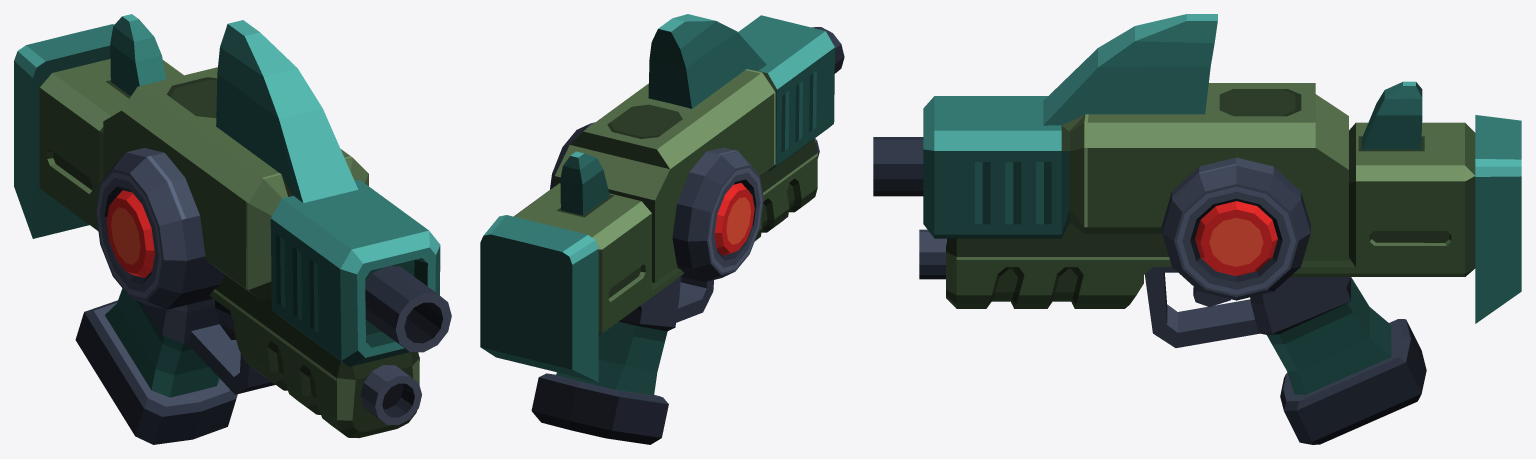
Rendered from Cosmic_Retro_Blaster_10.fbx.
The picture shows the model from 3 angles, left to right: view 1: azimuth 30°, elevation 25°; view 2: azimuth 150°, elevation 25°; view 3: azimuth 270°, elevation 25°; orthographic projection. The views are drawn at different scales.
Parts seen in each view (by area): view 1: Cosmic_Retro_Blaster_10, Cylinder.022; view 2: Cosmic_Retro_Blaster_10; view 3: Cosmic_Retro_Blaster_10.
Boxes of the visible parts, x1,y1,x2,y2 form: Cosmic_Retro_Blaster_10: [14, 14, 451, 444]; Cylinder.022: [215, 300, 236, 339]; Cosmic_Retro_Blaster_10: [480, 14, 844, 444]; Cosmic_Retro_Blaster_10: [873, 14, 1521, 444].
Bounding box in the file's own units: 0.1092 × 0.2382 × 0.3373.
